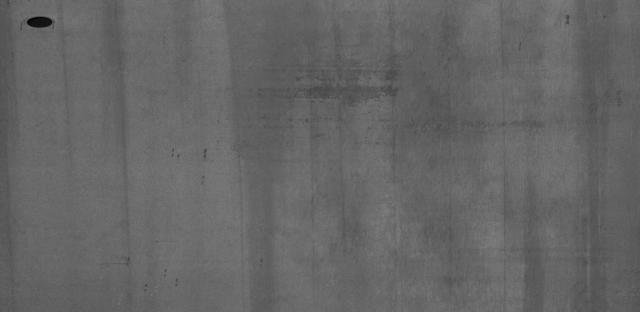oil_spot: (274, 58, 408, 109), (557, 11, 574, 25)
punching_hole: (22, 13, 59, 32)
